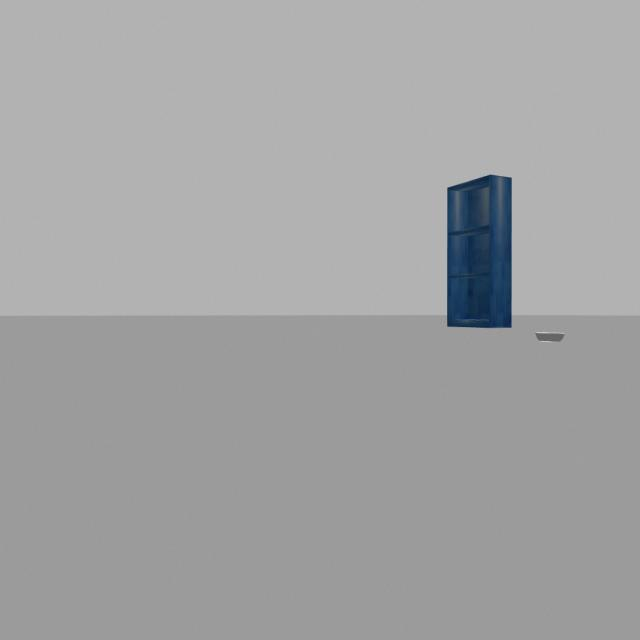bowl: (537, 325, 569, 351)
shelf: (435, 168, 521, 346)
